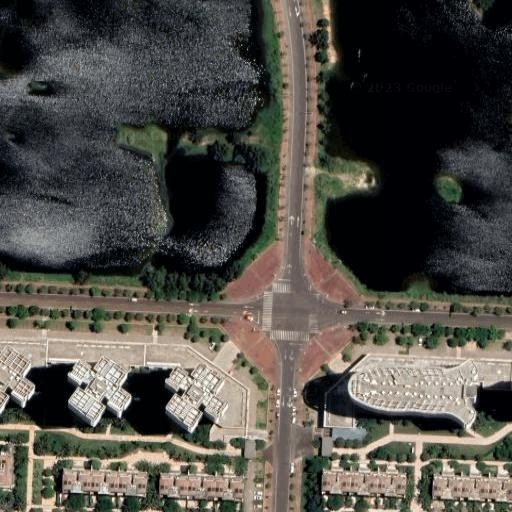building: (323, 358, 512, 434), (347, 366, 477, 431), (164, 368, 227, 435), (68, 362, 130, 430), (0, 351, 37, 410), (323, 471, 405, 496), (434, 476, 512, 500), (159, 474, 202, 499), (102, 471, 145, 495), (201, 476, 242, 501), (64, 470, 103, 493), (0, 454, 16, 486), (330, 433, 366, 446), (244, 439, 256, 457), (320, 440, 330, 460), (465, 391, 476, 404)
